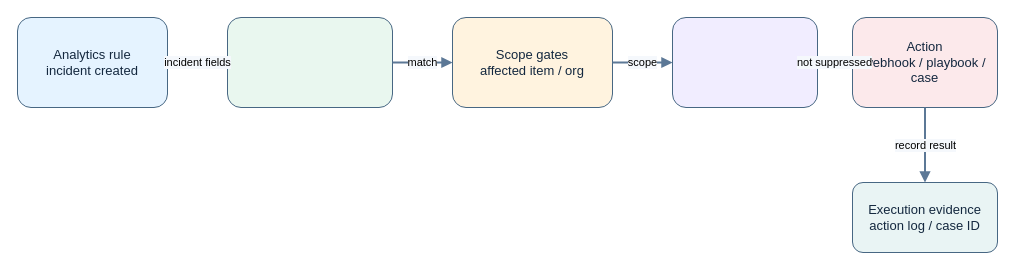
This 1015x270 diagram has some shape labels left out. The shapes that lost their labels are listed below. From the top down, each one's centre as x and y in pixels, then its label:
the point at 309,62: Policy match gates severity / rule / time
the point at 745,62: Exception check cleared incident?
